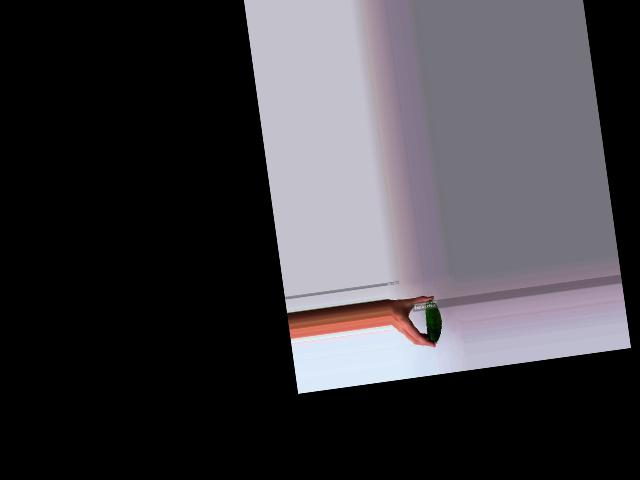cucumber: (423, 299, 445, 343)
